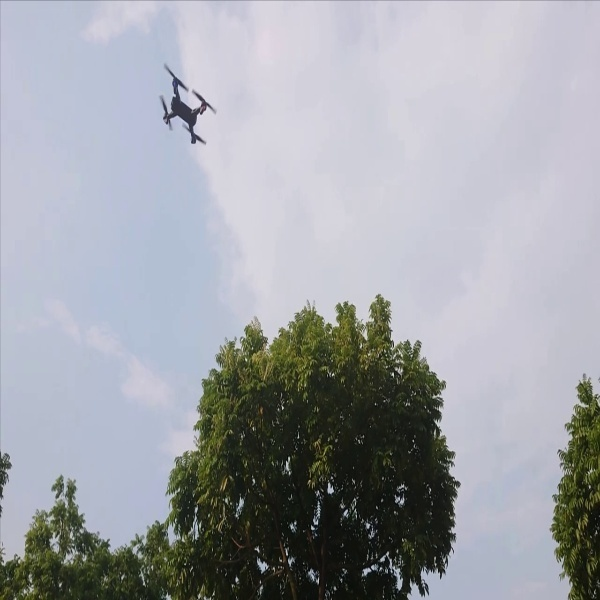drone: (139, 52, 238, 159)
